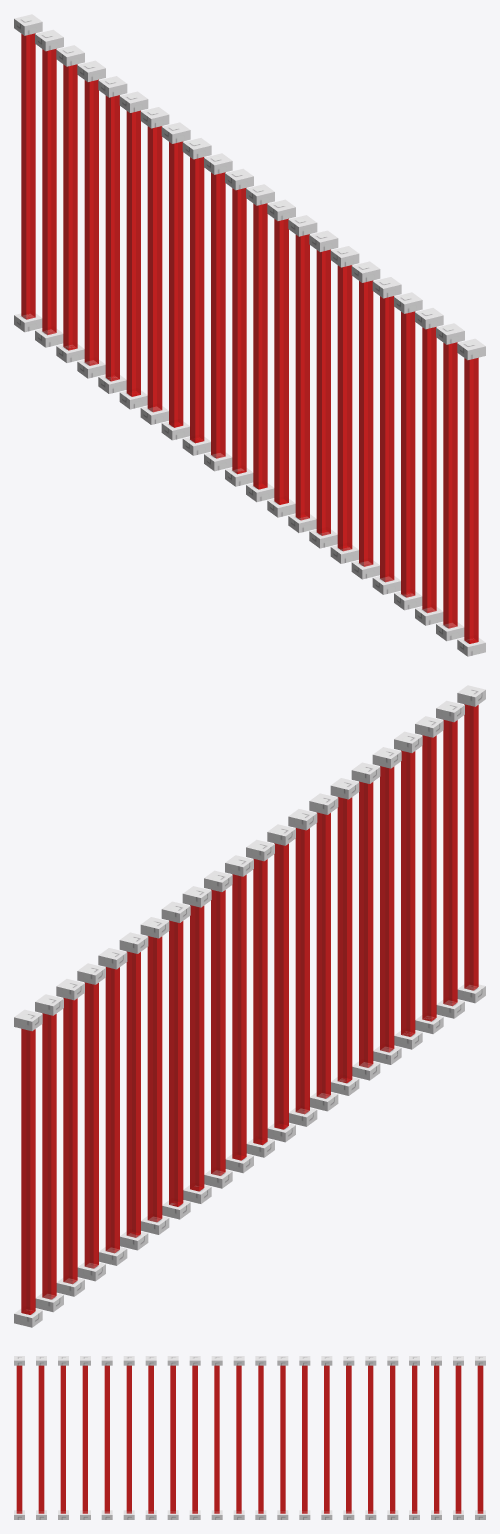
Rendered from laser.obj.
3 renders of one model, top to bottom at view 1: azimuth 30°, elevation 25°; view 2: azimuth 150°, elevation 25°; view 3: azimuth 270°, elevation 25°, orthographic. The views are drawn at different scales.
Parts seen in each view (by area): view 1: StructureBaseHome30, StructureBaseHome57, StructureBaseHome6, StructureBaseHome9, StructureBaseHome15, StructureBaseHome36, StructureBaseHome42, StructureBaseHome61, StructureBaseHome12, StructureBaseHome39, StructureBaseHome66, StructureBaseHome60 (+10 smaller); view 2: StructureBaseHome57, StructureBaseHome30, StructureBaseHome15, StructureBaseHome6, StructureBaseHome18, StructureBaseHome24, StructureBaseHome45, StructureBaseHome51, StructureBaseHome3, StructureBaseHome21, StructureBaseHome48, StructureBaseHome27 (+10 smaller); view 3: StructureBaseHome3, StructureBaseHome6, StructureBaseHome12, StructureBaseHome15, StructureBaseHome30, StructureBaseHome33, StructureBaseHome36, StructureBaseHome39, StructureBaseHome42, StructureBaseHome45, StructureBaseHome48, StructureBaseHome51 (+10 smaller).
Part boxes in pixels (box(x1,y1,x2,y2)): StructureBaseHome30: box(337, 265, 352, 551); StructureBaseHome57: box(147, 126, 162, 412); StructureBaseHome6: box(42, 48, 56, 335); StructureBaseHome9: box(63, 64, 77, 350); StructureBaseHome15: box(443, 342, 457, 628); StructureBaseHome36: box(295, 234, 309, 520); StructureBaseHome42: box(253, 203, 267, 489); StructureBaseHome61: box(105, 95, 119, 381); StructureBaseHome12: box(464, 357, 478, 643); StructureBaseHome39: box(274, 218, 288, 504); StructureBaseHome66: box(84, 79, 98, 365); StructureBaseHome60: box(126, 110, 140, 396); StructureBaseHome57: box(147, 936, 162, 1222); StructureBaseHome30: box(337, 797, 352, 1083); StructureBaseHome15: box(443, 719, 457, 1006); StructureBaseHome6: box(42, 1013, 56, 1299); StructureBaseHome18: box(422, 735, 436, 1021); StructureBaseHome24: box(380, 766, 394, 1052); StructureBaseHome45: box(232, 874, 246, 1160); StructureBaseHome51: box(190, 905, 204, 1191); StructureBaseHome3: box(21, 1028, 35, 1314); StructureBaseHome21: box(401, 750, 415, 1036); StructureBaseHome48: box(211, 889, 225, 1175); StructureBaseHome27: box(359, 781, 373, 1067); StructureBaseHome3: box(477, 1365, 483, 1513); StructureBaseHome6: box(455, 1365, 461, 1513); StructureBaseHome12: box(16, 1365, 22, 1513); StructureBaseHome15: box(38, 1365, 44, 1513); StructureBaseHome30: box(148, 1365, 153, 1513); StructureBaseHome33: box(170, 1365, 175, 1513); StructureBaseHome36: box(192, 1365, 197, 1513); StructureBaseHome39: box(214, 1365, 219, 1513); StructureBaseHome42: box(236, 1365, 241, 1513); StructureBaseHome45: box(258, 1365, 263, 1513); StructureBaseHome48: box(280, 1365, 285, 1513); StructureBaseHome51: box(302, 1365, 307, 1513).
Bounding box in the file's own units: 1 × 16 × 43.
Materials: 2 (1 with a texture image).
